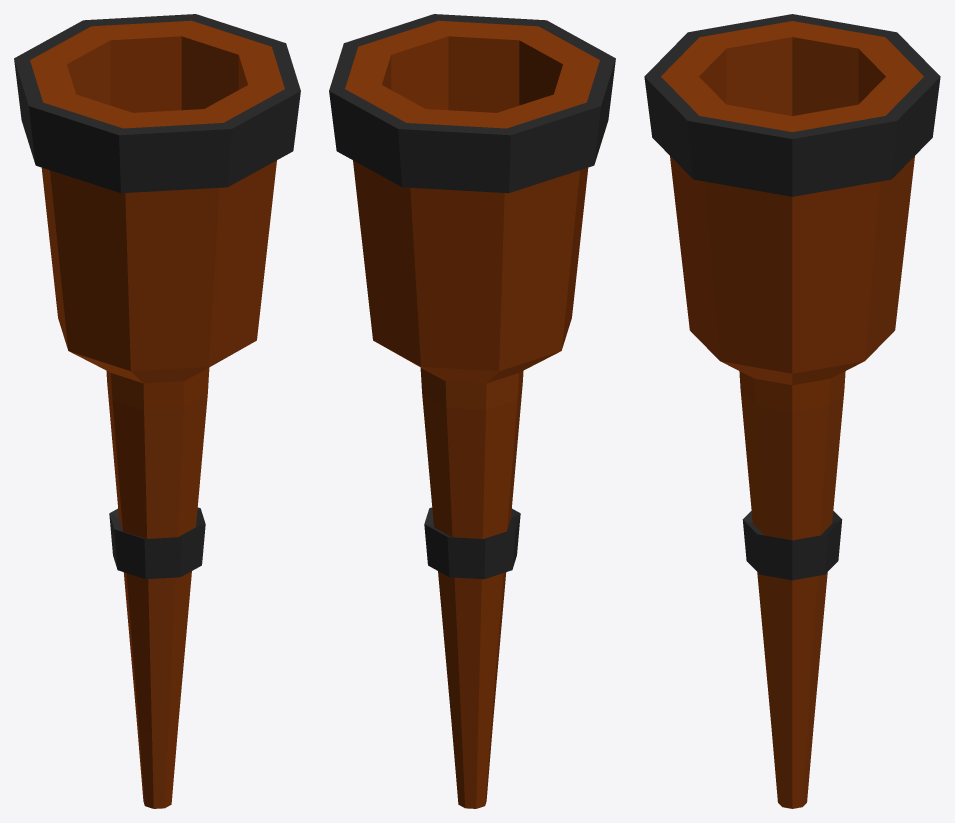
The model's file is pochodnia.fbx.
3 views of the same model, side by side, from view 1: azimuth 30°, elevation 25°; view 2: azimuth 150°, elevation 25°; view 3: azimuth 270°, elevation 25° (orthographic).
Parts seen in each view (by area): view 1: Circle; view 2: Circle; view 3: Circle.
Boxes of the visible parts, x1,y1,x2,y2 form: Circle: (14, 14, 300, 808); Circle: (329, 14, 615, 808); Circle: (644, 14, 940, 808).
Bounding box in the file's own units: 123 × 333 × 123.
